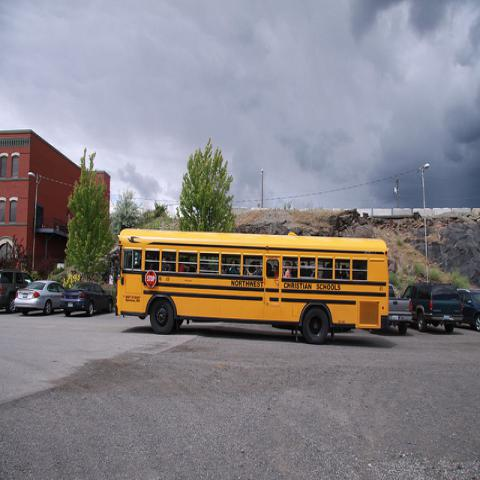bus: (115, 228, 389, 344)
car: (13, 279, 66, 315), (60, 282, 114, 317), (456, 288, 479, 333)
truck: (400, 283, 464, 332), (369, 284, 412, 334), (0, 270, 34, 314)
